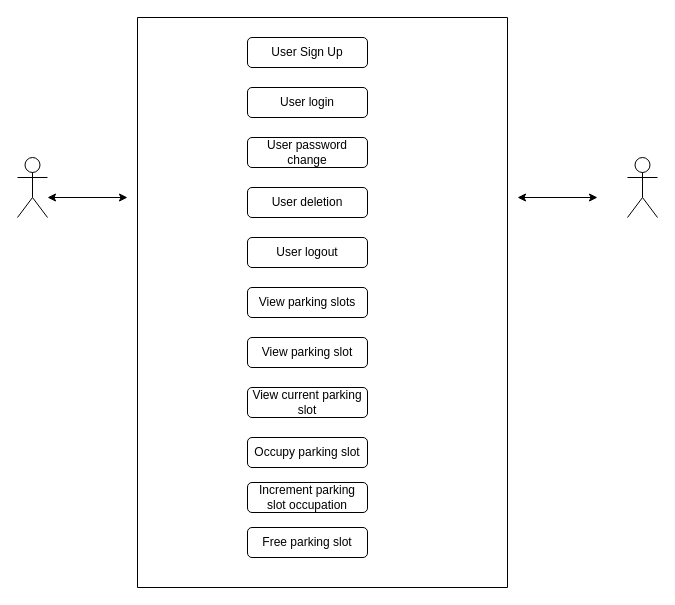
This 675x605 diagram has some shape labels left out. Each missing label, with the centre of its shape:
"Client" belongs at point 642,187.
"User" belongs at point 32,187.
